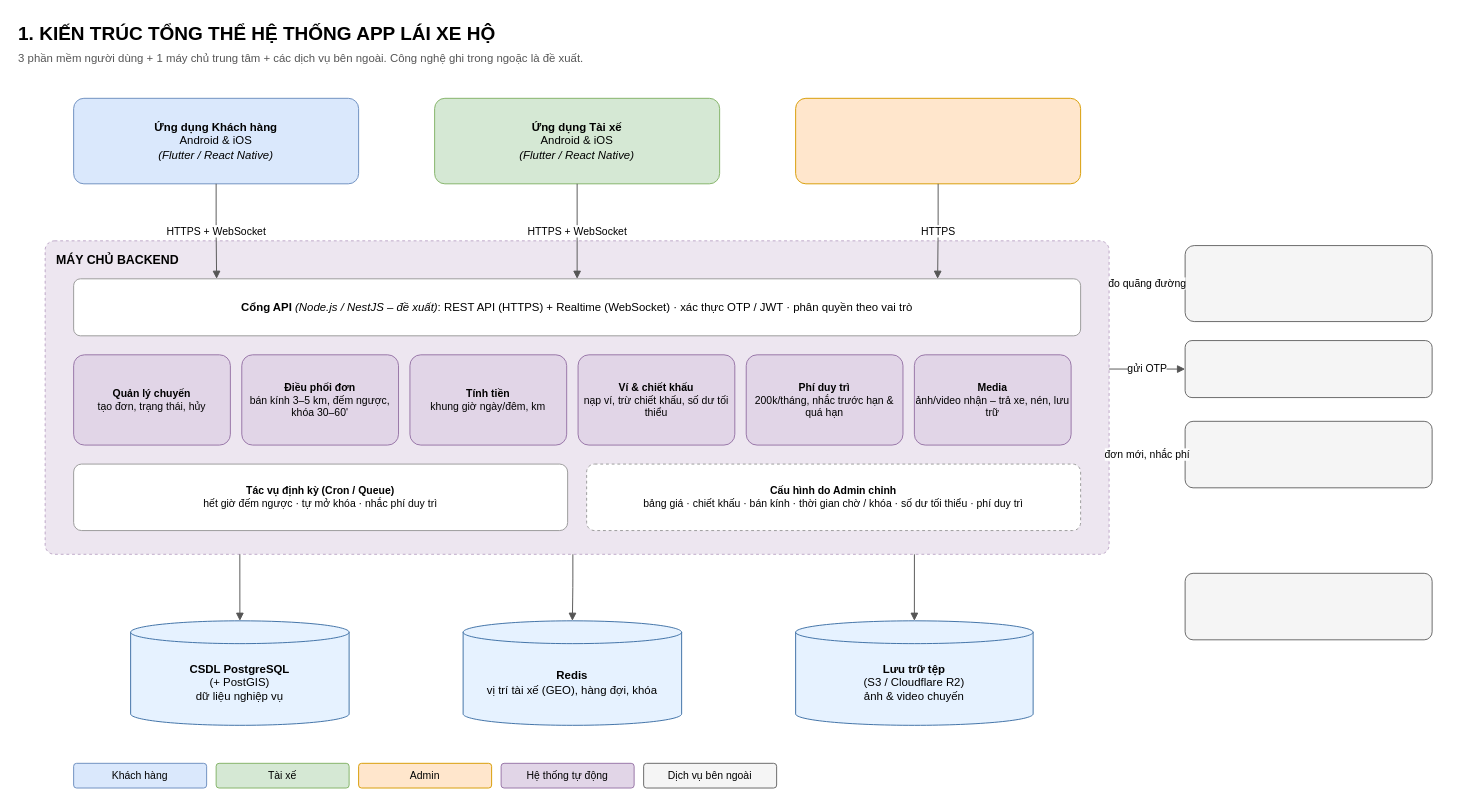
This 1457x805 diagram has some shape labels left out. Here are the shapes that lost their labels. From the top down, the box of each, then its label:
(795, 97, 1081, 184): Web Admin Trình duyệt máy tính (React / Next.js)
(1184, 245, 1432, 322): Dịch vụ bản đồ Google Maps / Goong / VietMap Directions (ô tô), Geocoding
(1184, 340, 1432, 398): SMS OTP (eSMS / Twilio…)
(1184, 420, 1432, 488): Thông báo đẩy Firebase FCM / Apple APNs
(1184, 572, 1432, 640): Google Play / App Store phát hành 2 ứng dụng
